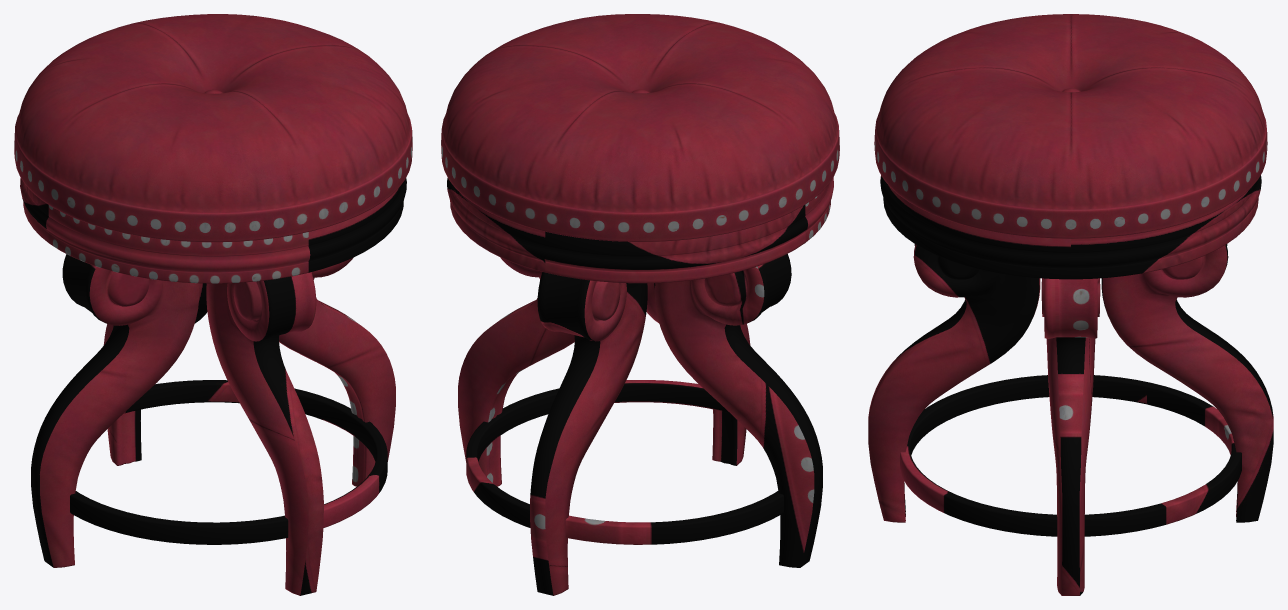
3 renders of one model, left to right at view 1: azimuth 30°, elevation 25°; view 2: azimuth 150°, elevation 25°; view 3: azimuth 270°, elevation 25°, orthographic.
Parts seen in each view (by area): view 1: chair_foot_low.003; view 2: chair_foot_low.003; view 3: chair_foot_low.003.
Boxes of the visible parts, bbox=[...] form: chair_foot_low.003: bbox=[14, 14, 412, 595]; chair_foot_low.003: bbox=[441, 14, 839, 595]; chair_foot_low.003: bbox=[868, 14, 1273, 595].
Size of the model in its own units: 571 by 698 by 571.
1 material, 1 textured.
